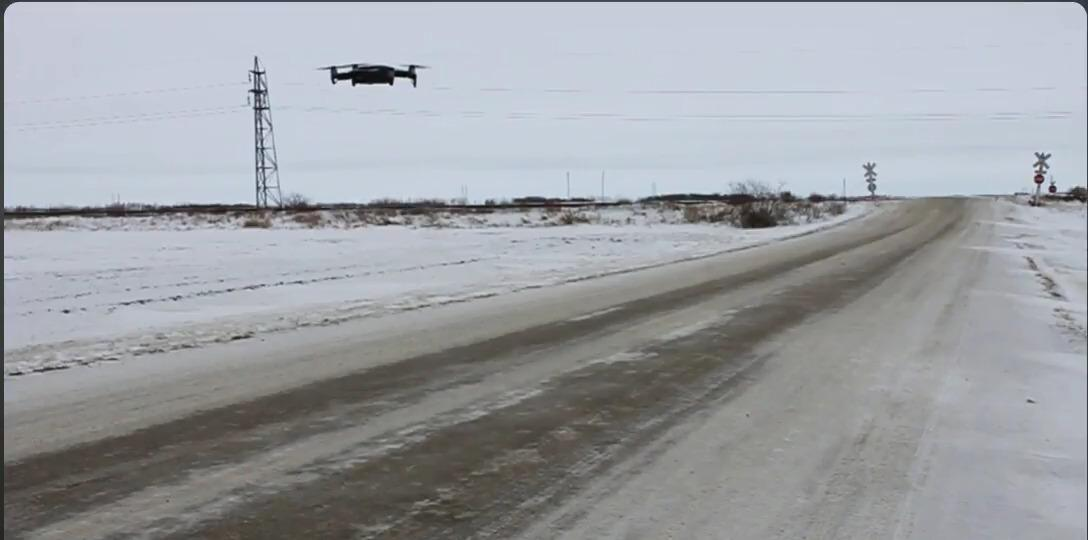dr: (315, 58, 431, 91)
